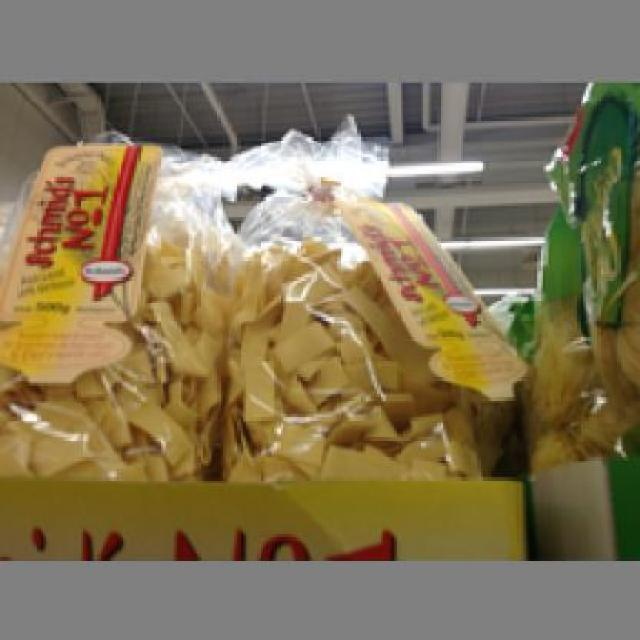Pasta: (222, 182, 508, 475), (0, 132, 226, 478)
